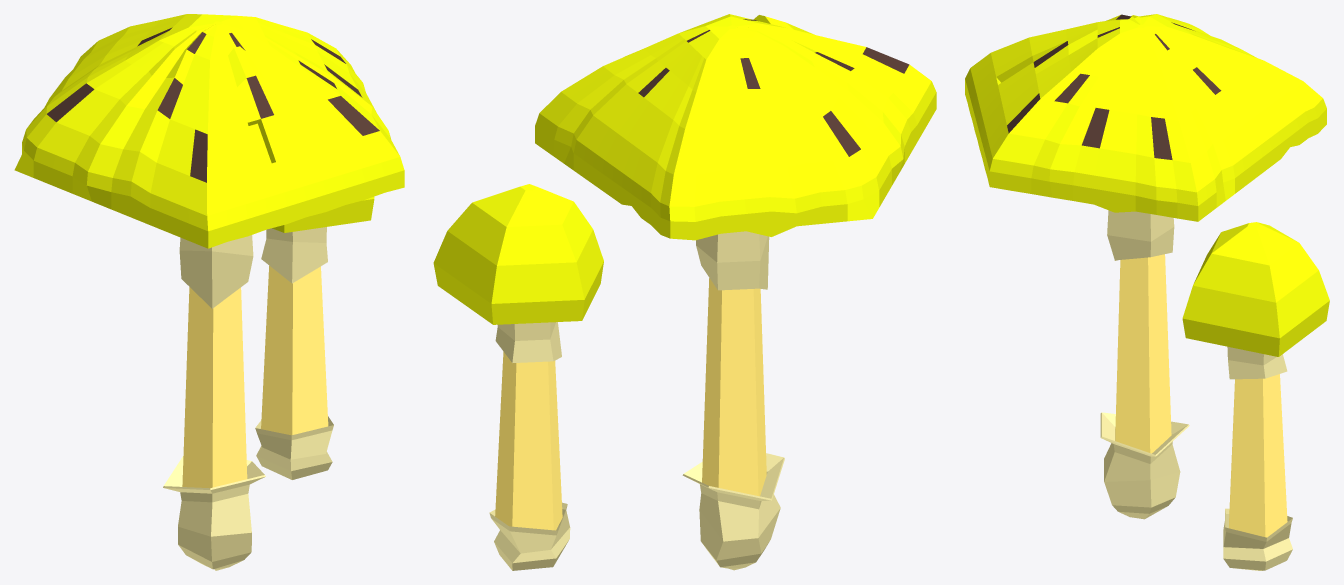
File: deathCap2.fbx
3 renders of one model, left to right at view 1: azimuth 30°, elevation 25°; view 2: azimuth 150°, elevation 25°; view 3: azimuth 270°, elevation 25°, orthographic. The views are drawn at different scales.
Visible parts, largest first — view 1: deathcap, deathcap.002; view 2: deathcap, deathcap.002; view 3: deathcap, deathcap.002.
Boxes of the visible parts, <box> form: deathcap: <box>14,14,404,570</box>; deathcap.002: <box>255,197,374,479</box>; deathcap: <box>535,14,936,570</box>; deathcap.002: <box>433,184,603,570</box>; deathcap: <box>965,14,1326,519</box>; deathcap.002: <box>1182,222,1329,570</box>.
Size of the model in its own units: 690 by 908 by 608.
